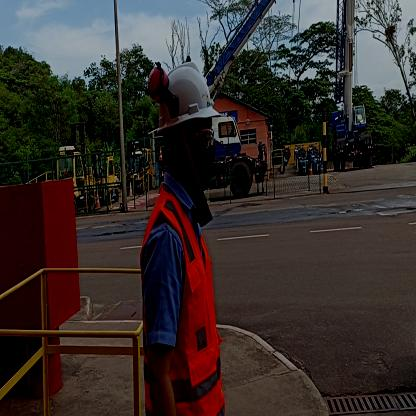Balaclava: (164, 122, 218, 194)
Capacete: (150, 57, 219, 121)
colete: (139, 194, 229, 416)
